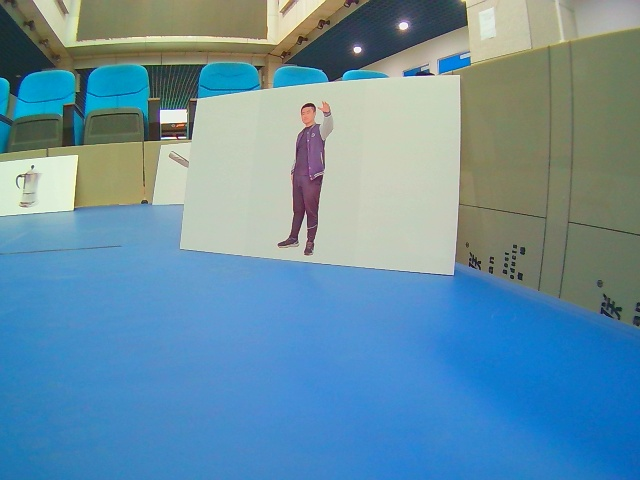dish: (1, 155, 79, 216)
person: (178, 74, 462, 279)
